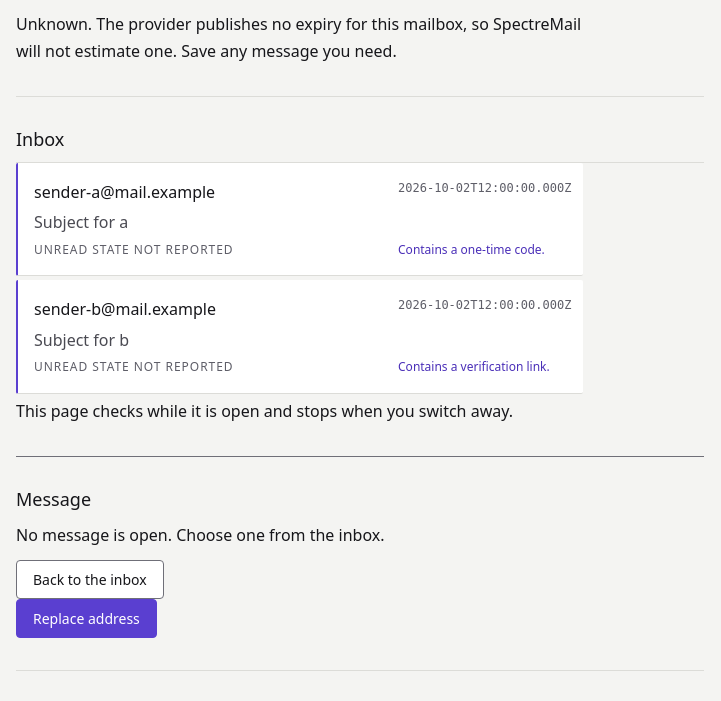
Test: the message view › opening a message from the inbox › gives every row a real button with a name, and opens what it names
(page scrolled)
Click the button with test id "inbox-row-open" that starts with "sender-b@mail.example" at (125, 309), box [16,280,583,394]
(page scrolled)
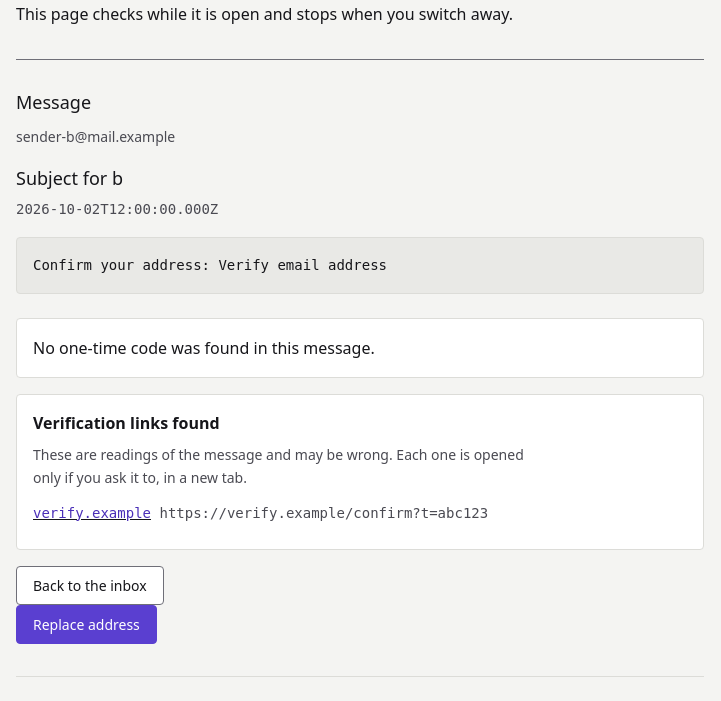
Check: the element with test id "message-opened" does not show "Subject for a"
Check: the element with test id "message-opened" is shown, box [16,125,704,550]
Check: the element with test id "message-opened" shows "Subject for b", box [16,166,123,190]
